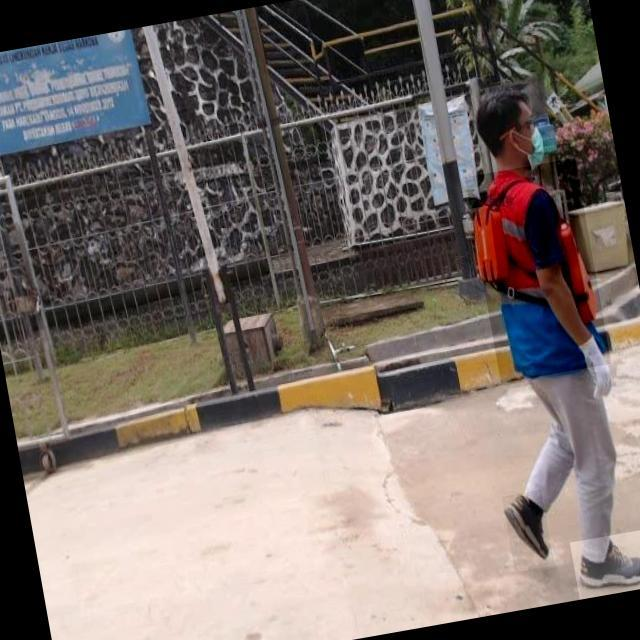Gloves: (570, 328, 619, 404)
Person: (444, 79, 640, 610)
Safety Boot: (569, 529, 640, 599), (502, 489, 554, 570)
Safety Vest: (464, 158, 611, 383)
no-helmet: (469, 85, 535, 121)
